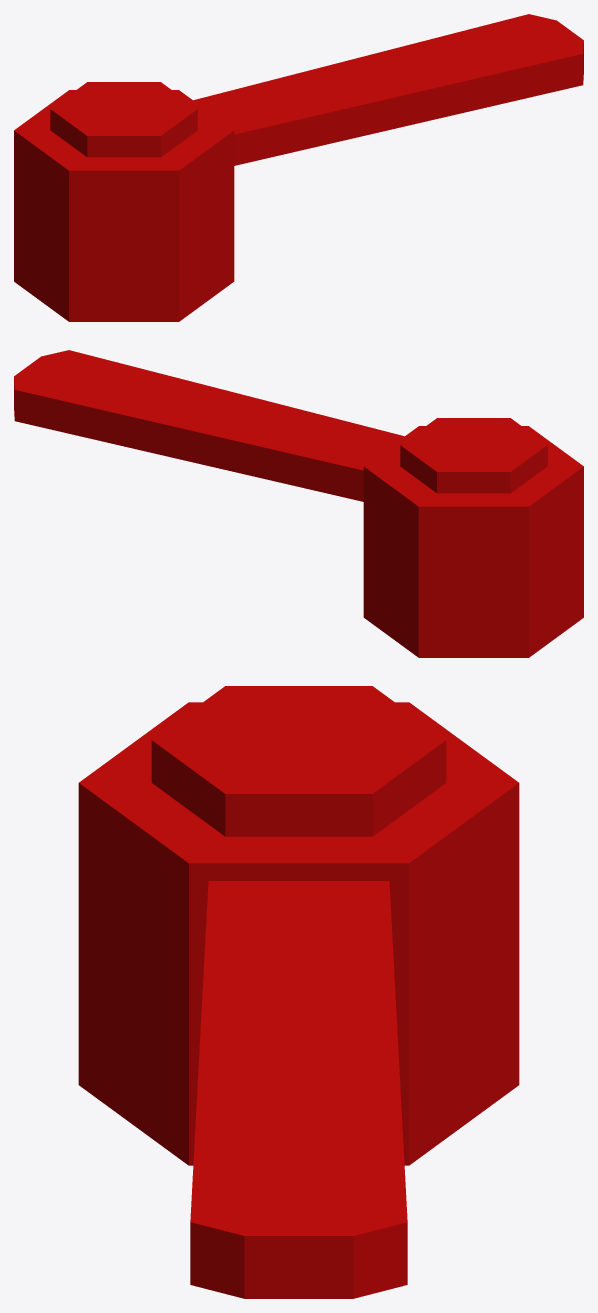
The model's file is Prop_Industrial_Pipe_Valve_Handle_01.FBX.
3 views of the same model, one above another, from view 1: azimuth 30°, elevation 25°; view 2: azimuth 150°, elevation 25°; view 3: azimuth 270°, elevation 25° (orthographic). The views are drawn at different scales.
Parts seen in each view (by area): view 1: Prop_Industrial_Pipe_Valve_Handle_01; view 2: Prop_Industrial_Pipe_Valve_Handle_01; view 3: Prop_Industrial_Pipe_Valve_Handle_01.
Boxes of the visible parts, x1,y1,x2,y2 form: Prop_Industrial_Pipe_Valve_Handle_01: (14,14,583,321); Prop_Industrial_Pipe_Valve_Handle_01: (14,350,583,657); Prop_Industrial_Pipe_Valve_Handle_01: (78,686,519,1298).
Size of the model in its own units: 466 by 145 by 168.
